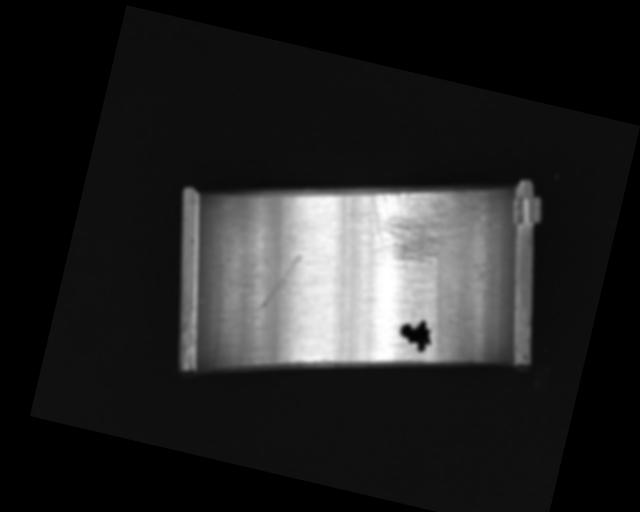blot: (395, 315, 437, 355)
nick: (315, 247, 363, 363), (255, 246, 303, 320)
scratch: (355, 166, 484, 286)
